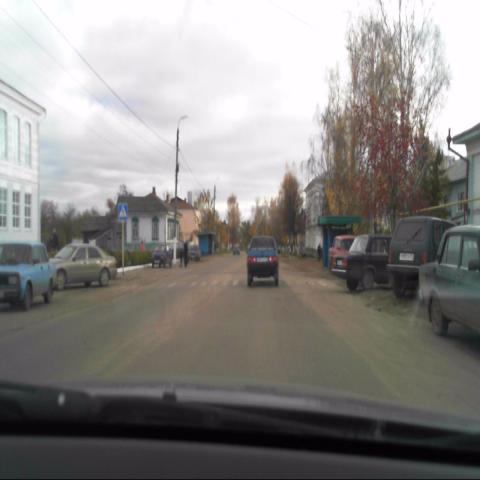5_19_1: (118, 203, 128, 221)
